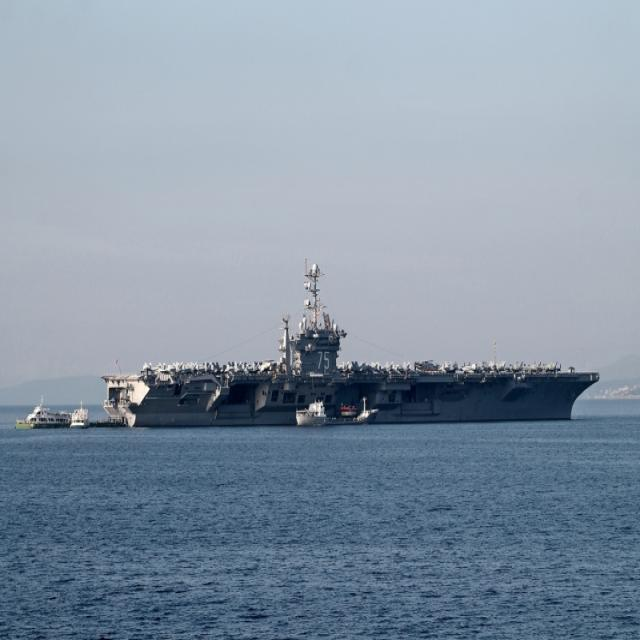Portanaves: (103, 264, 605, 433)
